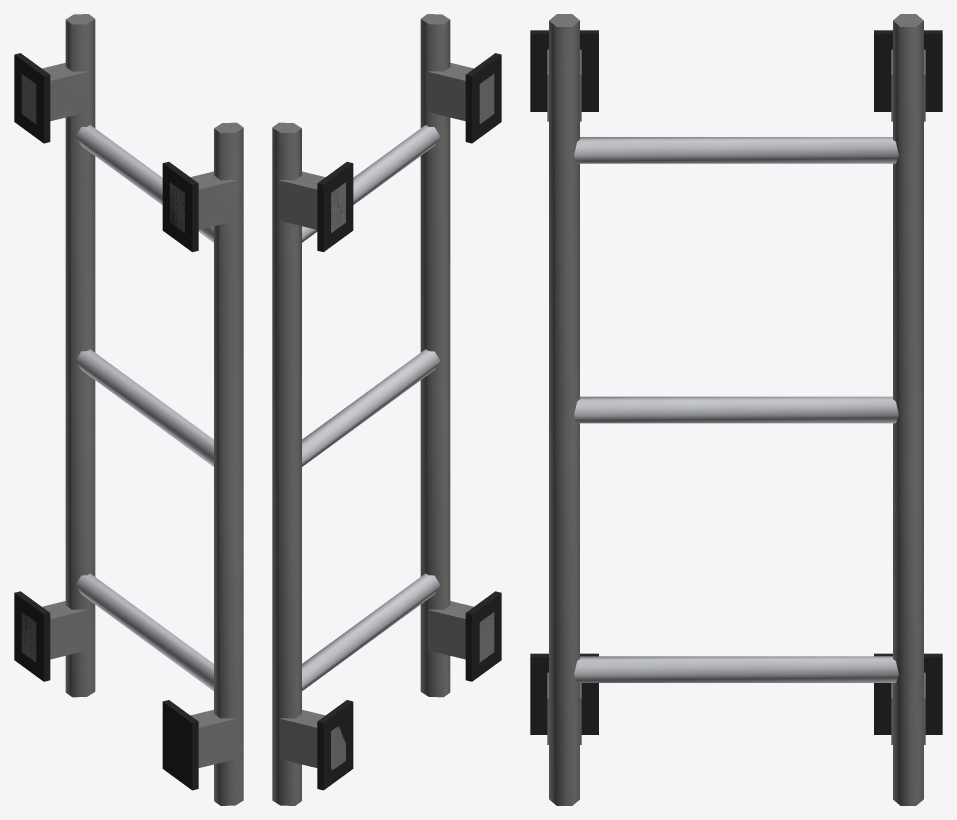
Rendered from struct03_ladder_handrail_ladder_1.glb.
3 views of the same model, side by side, from view 1: azimuth 30°, elevation 25°; view 2: azimuth 150°, elevation 25°; view 3: azimuth 270°, elevation 25° (orthographic). The views are drawn at different scales.
Parts seen in each view (by area): view 1: ladder_stringers, ladder_rungs, standoffs, mount_pads; view 2: ladder_stringers, standoffs, ladder_rungs, mount_pads; view 3: ladder_stringers, ladder_rungs, mount_pads, standoffs.
Part boxes in pixels (x1,y1,x2,y2): ladder_stringers: (65, 14, 243, 805); ladder_rungs: (75, 125, 213, 690); standoffs: (21, 63, 236, 767); mount_pads: (14, 53, 198, 790); ladder_stringers: (272, 14, 450, 805); standoffs: (279, 63, 494, 769); ladder_rungs: (302, 125, 440, 690); mount_pads: (317, 53, 501, 790); ladder_stringers: (549, 14, 923, 805); ladder_rungs: (574, 137, 898, 682); mount_pads: (530, 30, 942, 734); standoffs: (547, 49, 925, 744).
Bounding box in the file's own units: 0.098 × 1 × 0.48.
Materials: 3 (2 with a texture image).
